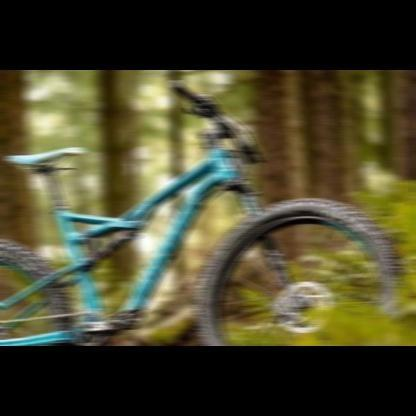Bicycle: (0, 68, 410, 337)
